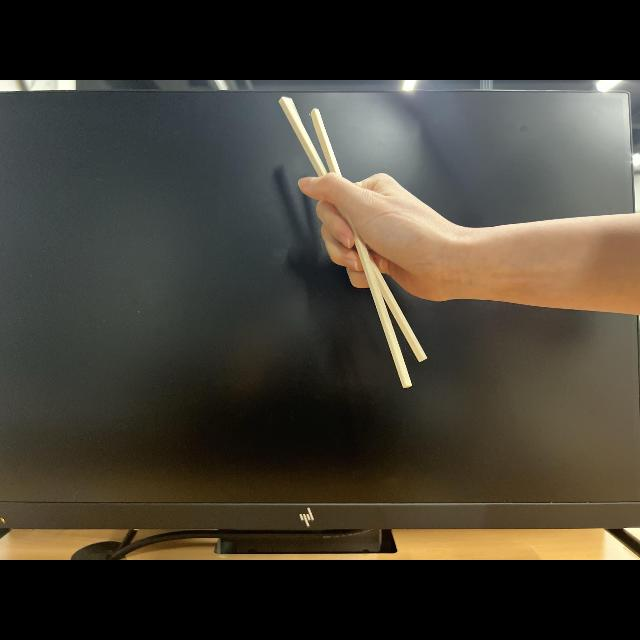stick: (279, 96, 445, 390)
